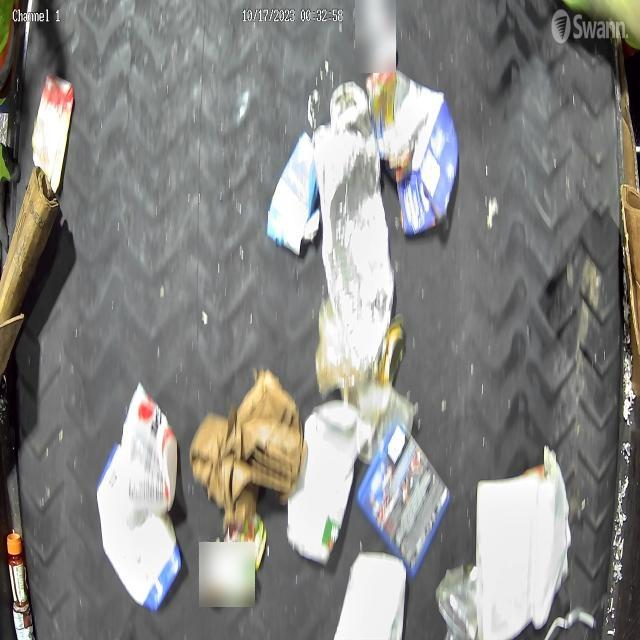non_white_jug: (96, 442, 182, 611)
